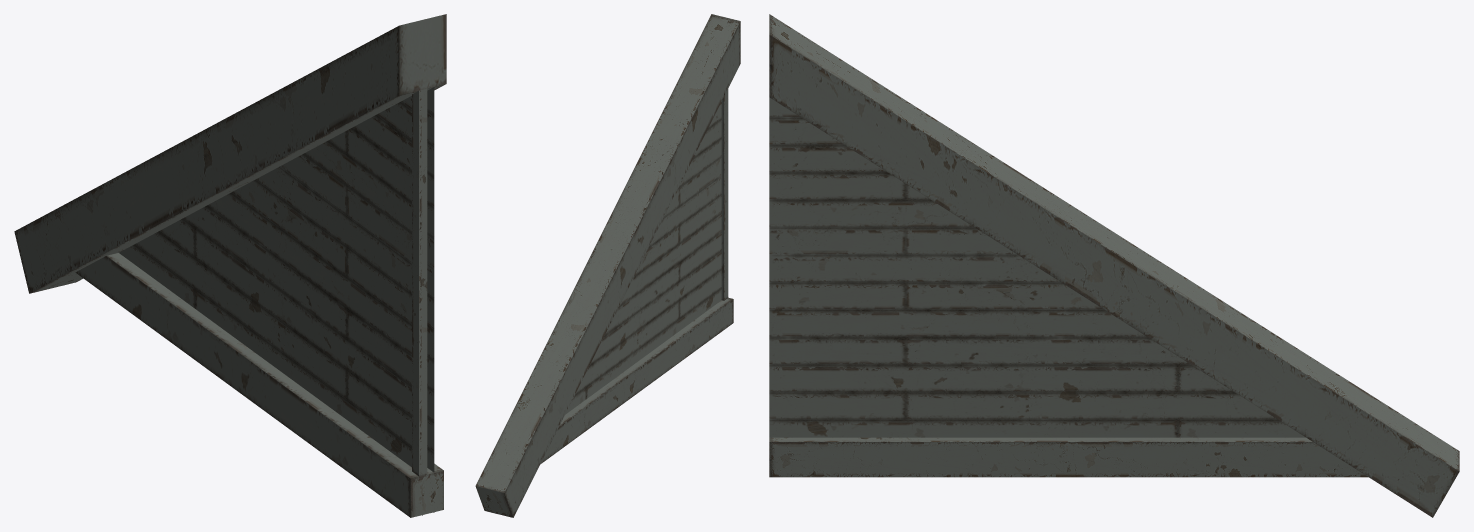
File: SM_Roof400EndLeft.FBX
3 views of the same model, side by side, from view 1: azimuth 30°, elevation 25°; view 2: azimuth 150°, elevation 25°; view 3: azimuth 270°, elevation 25° (orthographic). The views are drawn at different scales.
Parts seen in each view (by area): view 1: SM_Roof400EndLeft; view 2: SM_Roof400EndLeft; view 3: SM_Roof400EndLeft.
Part boxes in pixels (x1,y1,x2,y2): SM_Roof400EndLeft: (14,14,446,517); SM_Roof400EndLeft: (475,14,740,517); SM_Roof400EndLeft: (769,14,1459,517).
Bounding box in the file's own units: 35.56 × 388 × 502.
